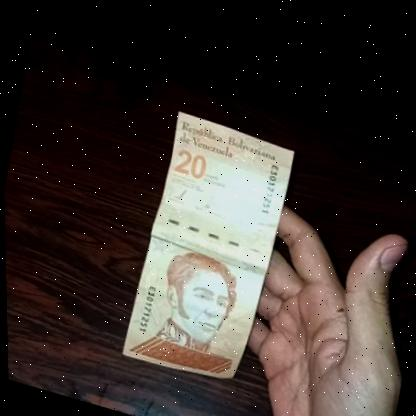twenty-front-vef: (116, 99, 299, 392)
